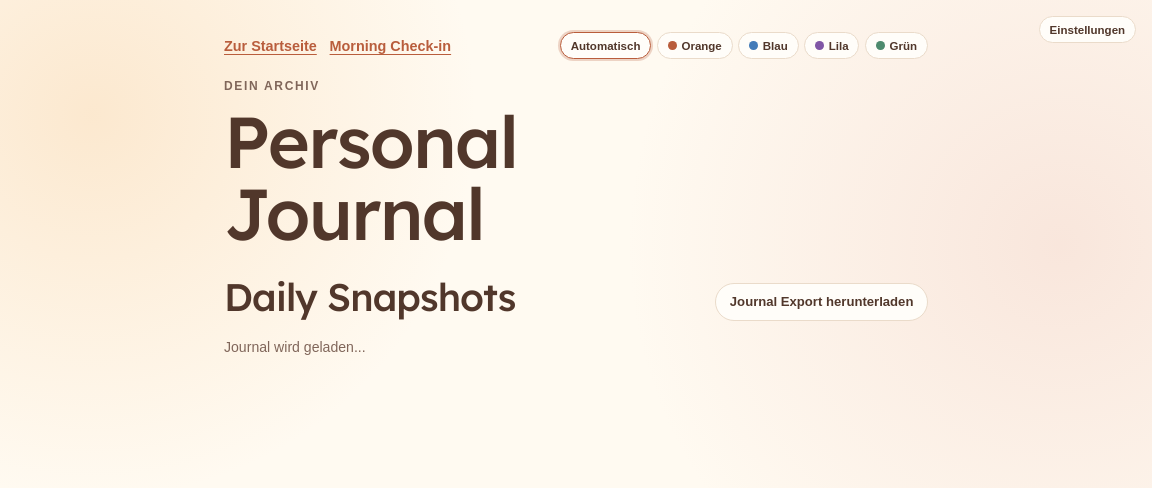
Test: personal journal reports export failures
Click the button "Journal Export herunterladen" at (822, 302), box [715, 283, 928, 321]
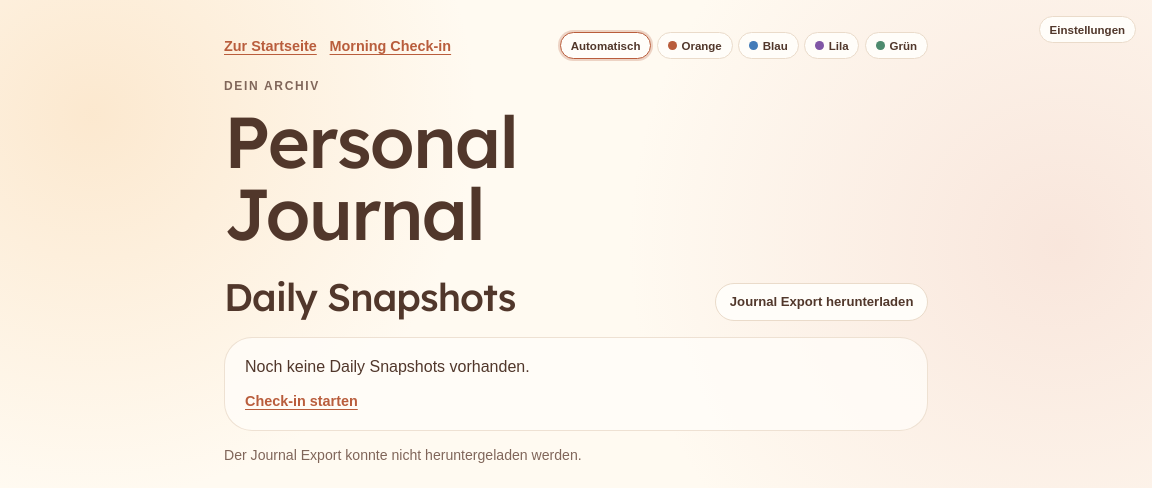
Now the message reads "Der Journal Export konnte nicht heruntergeladen werden.", box [224, 447, 582, 463]
